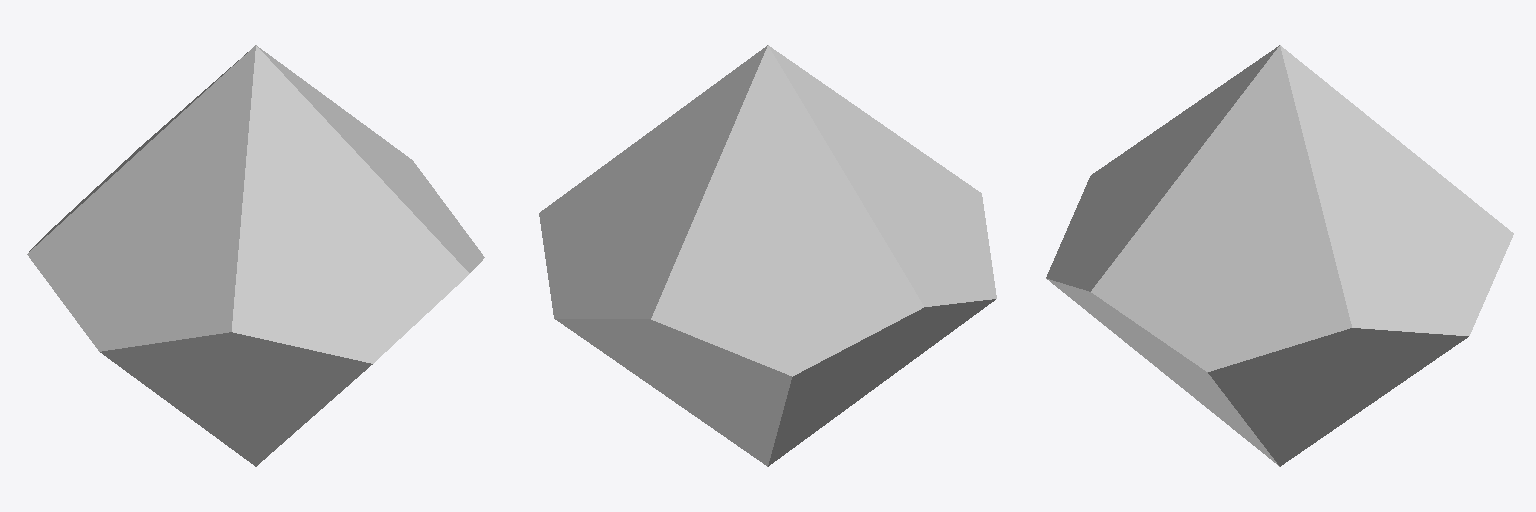
Rendered from dten.obj.
The picture shows the model from 3 angles: view 1: azimuth 30°, elevation 25°; view 2: azimuth 150°, elevation 25°; view 3: azimuth 270°, elevation 25°; orthographic projection.
Parts seen in each view (by area): view 1: Cone; view 2: Cone; view 3: Cone.
Boxes of the visible parts, box(x1,y1,x2,y2) form: Cone: box(27, 45, 484, 466); Cone: box(539, 45, 996, 466); Cone: box(1046, 45, 1513, 466).
Bounding box in the file's own units: 1.91 × 2 × 2.01.